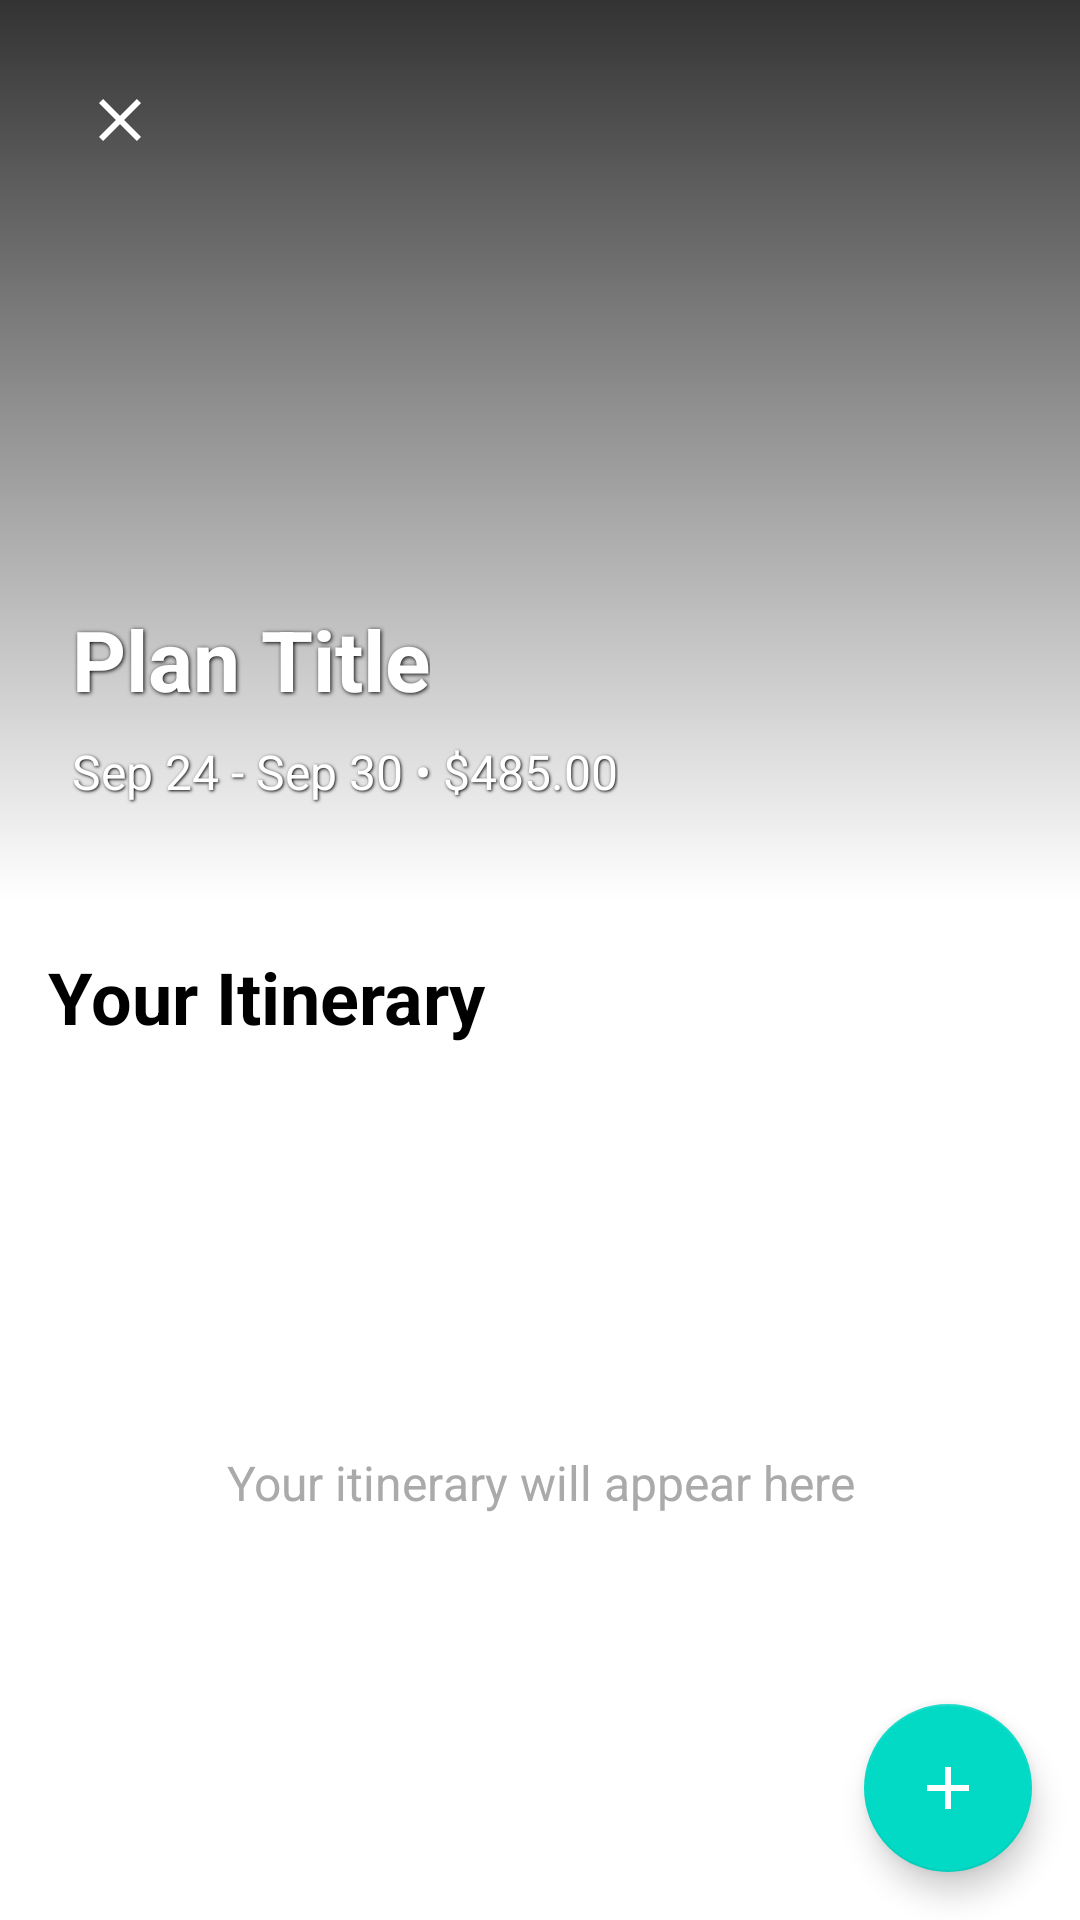

Icon click points for this 1080px x 1920px phone screenshot, format point (x, y):
Add Task: point (948, 1788)
